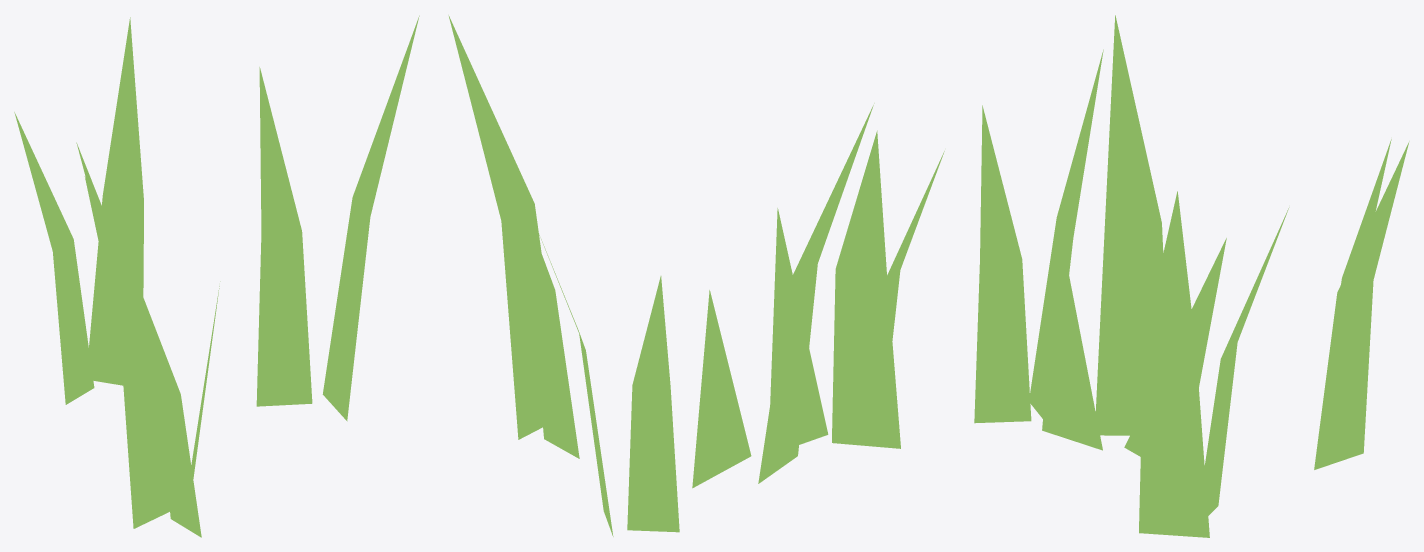
Rendered from Grass_a_OneS_06.fbx.
The picture shows the model from 3 angles, left to right: view 1: azimuth 30°, elevation 25°; view 2: azimuth 150°, elevation 25°; view 3: azimuth 270°, elevation 25°; orthographic projection. The views are drawn at different scales.
Visible parts, largest first — view 1: Grass_a_OneS_06; view 2: Grass_a_OneS_06; view 3: Grass_a_OneS_06.
Part boxes in pixels (left/top/right/bottom): Grass_a_OneS_06: left=14, top=15, right=419, bottom=537; Grass_a_OneS_06: left=448, top=15, right=944, bottom=536; Grass_a_OneS_06: left=974, top=15, right=1409, bottom=537.
Size of the model in its own units: 0.6952 by 0.6874 by 0.6625.
